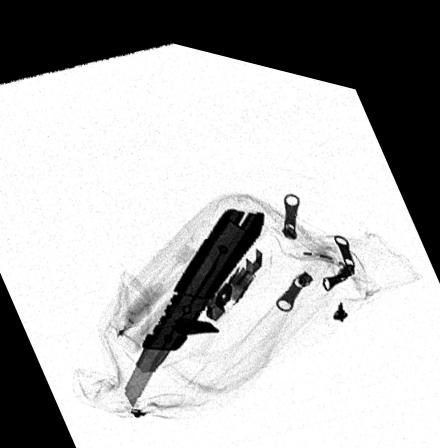Knife: (121, 195, 264, 401)
